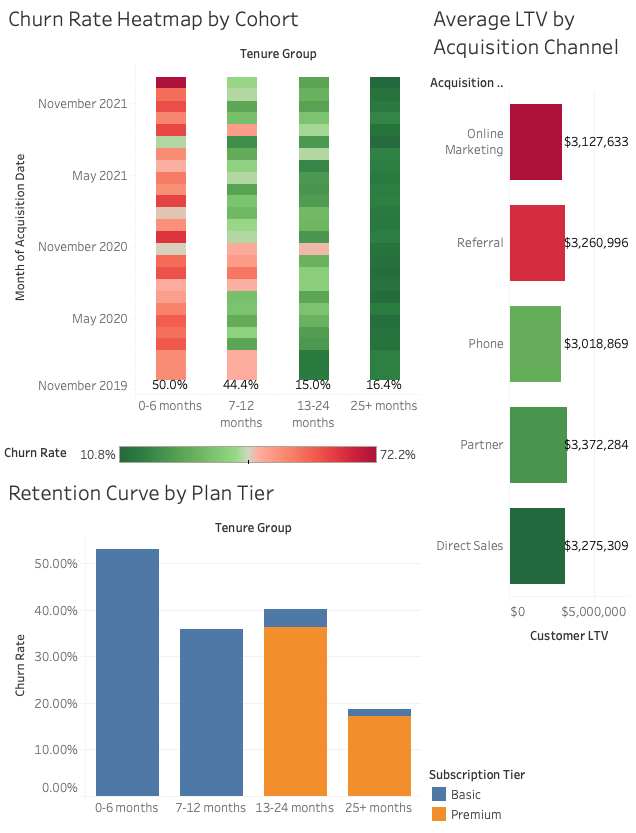

The page's visual inventory and layout, read from the dashboard file:
{"tool":"tableau","page":{"name":"Cohort & Retention","canvas":[650,860],"ordinal":1},"visuals":[{"type":"worksheet","title":"Cohort Heatmap","mark":"Square","rows":["acquisition_date"],"cols":["Calculation_2320147965284353"],"box":[8,8,425,442]},{"type":"worksheet","title":"LTV by Channel","mark":"Automatic","rows":["acquisition_channel"],"cols":["Calculation_2320147968987138"],"box":[433,8,209,766]},{"type":"legend","title":"Cohort Heatmap","param":"[federated.0gyywgw1lz12qx14jcgju14deura].[usr:Calculation_2320147963314176:qk]","box":[8,450,425,32]},{"type":"worksheet","title":"Retention Curve","mark":"Bar","rows":["Calculation_2320147963314176"],"cols":["Calculation_2320147965284353"],"box":[8,482,425,370]},{"type":"legend","title":"Retention Curve","param":"[federated.0gyywgw1lz12qx14jcgju14deura].[none:subscription_tier:nk]","box":[433,774,209,78]}]}

Visuals, with their boxes in screenshot pixels (x1, y1, x2, y2), scaled from the page's 650x860 canvas onto the 636x833 screenshot:
"Cohort Heatmap" worksheet (Square marks): (8,8,424,436)
"LTV by Channel" worksheet: (424,8,628,750)
"Cohort Heatmap" legend: (8,436,424,467)
"Retention Curve" worksheet (Bar marks): (8,467,424,825)
"Retention Curve" legend: (424,750,628,825)
